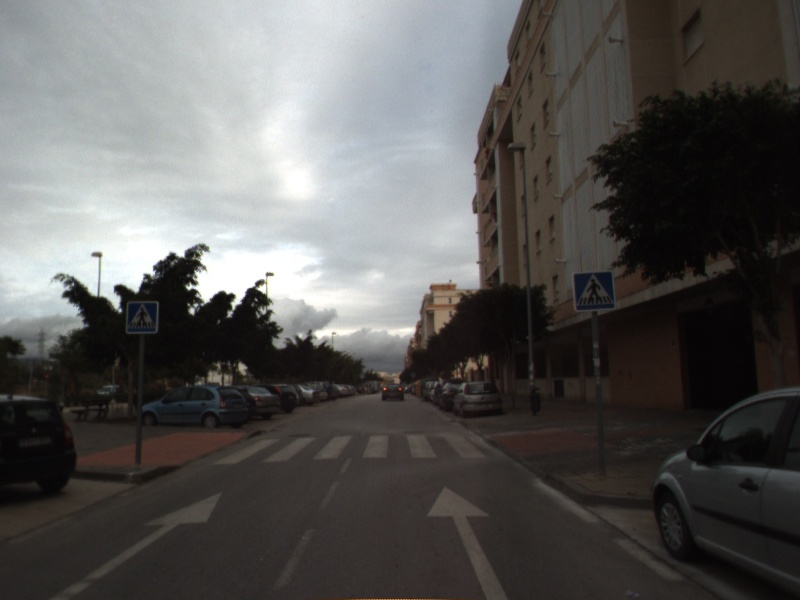STRAIGHT: (46, 490, 224, 600), (425, 484, 510, 600)
